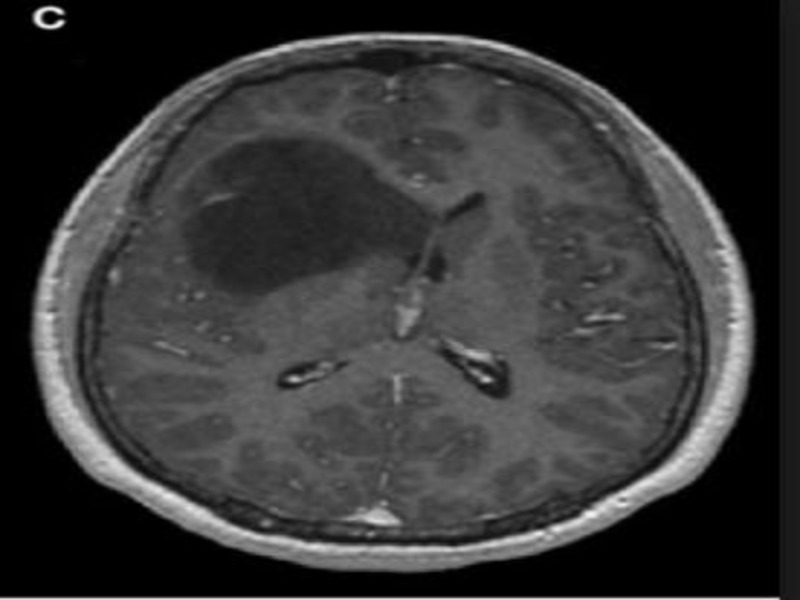tumor: (368, 287, 464, 364)
